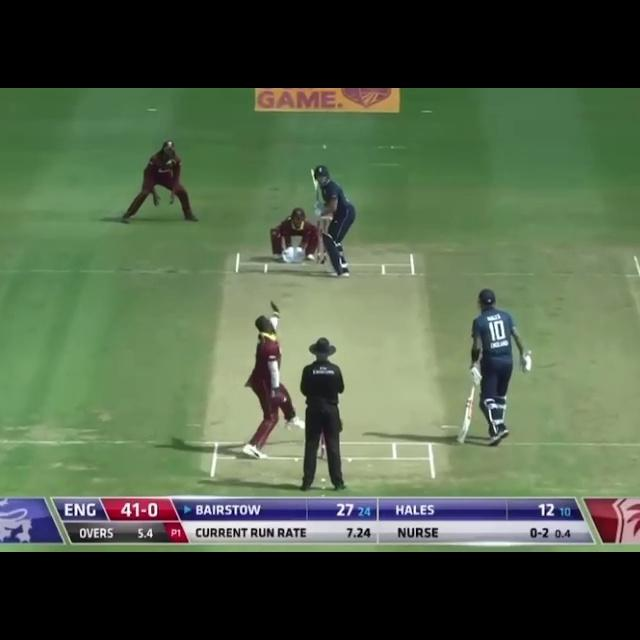umpire: (290, 332, 356, 488)
